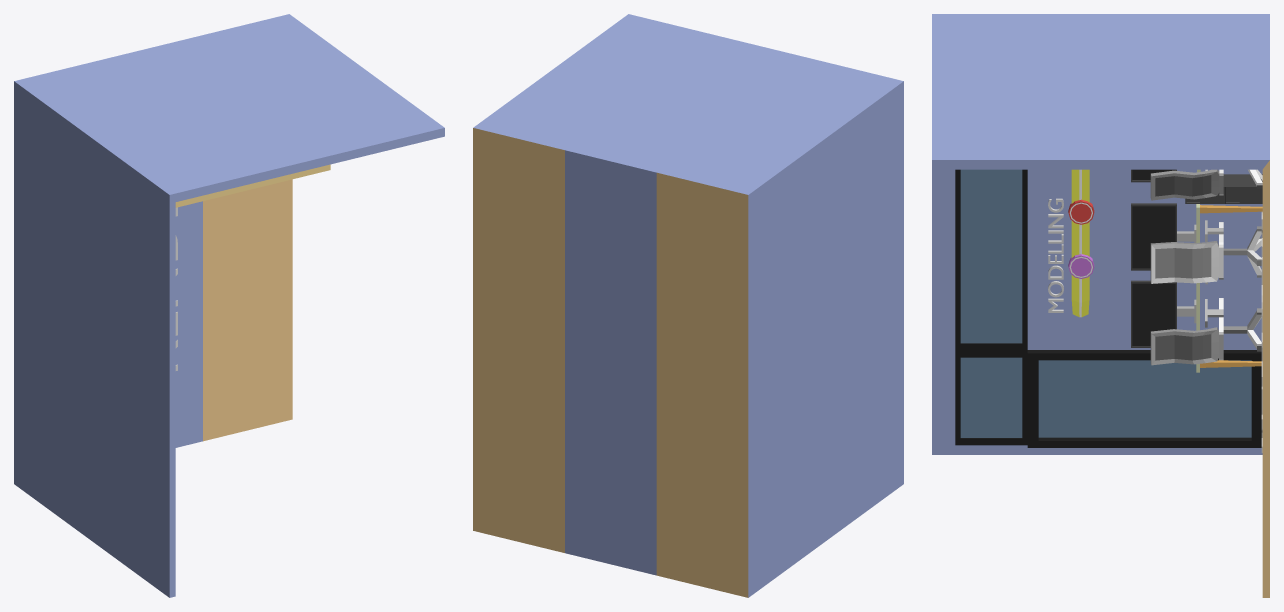
File: render_odasi.glb
The picture shows the model from 3 angles, left to right: view 1: azimuth 30°, elevation 25°; view 2: azimuth 150°, elevation 25°; view 3: azimuth 270°, elevation 25°; orthographic projection. The views are drawn at different scales.
Parts seen in each view (by area): view 1: Cube, Cube.036, Cube.037, Cube.005; view 2: Cube, Cube.036, Cube.037; view 3: Cube, Cube.036, Cube.010, Cube.004, Cube.012, Cube.001, Cube.026, Cube.017, Text.003, Cube.020, Cylinder, Cylinder.004 (+3 smaller).
Boxes of the visible parts, x1,y1,x2,y2 form: Cube: (14, 14, 444, 597); Cube.036: (203, 179, 292, 441); Cube.037: (175, 201, 202, 447); Cube.005: (175, 164, 330, 207); Cube: (473, 14, 903, 597); Cube.036: (473, 128, 748, 597); Cube.037: (565, 150, 656, 575); Cube: (932, 14, 1269, 454); Cube.036: (1262, 160, 1269, 597); Cube.010: (1150, 298, 1261, 365); Cube.004: (1150, 222, 1223, 283); Cube.012: (1131, 280, 1176, 347); Cube.001: (1131, 203, 1176, 270); Cube.026: (1150, 169, 1223, 200); Cube.017: (1071, 169, 1089, 317); Text.003: (1048, 198, 1063, 312); Cube.020: (1225, 174, 1262, 203); Cylinder: (1068, 254, 1094, 278); Cylinder.004: (1068, 199, 1094, 224).
Size of the model in its own units: 11.13 by 15.57 by 10.89.
